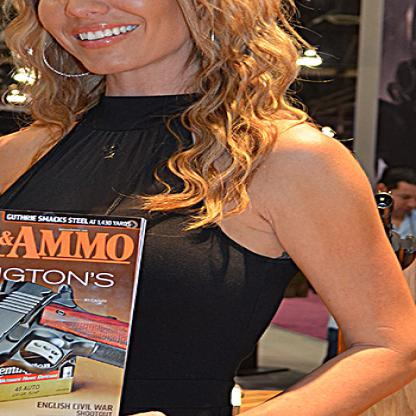gun: (0, 261, 145, 415)
